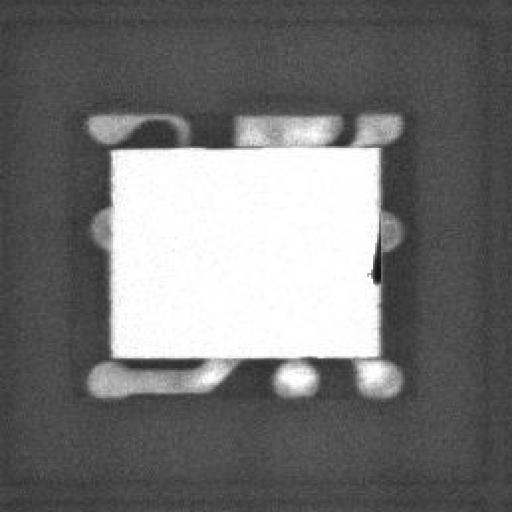DIE_BROKEN: (365, 235, 387, 286)
